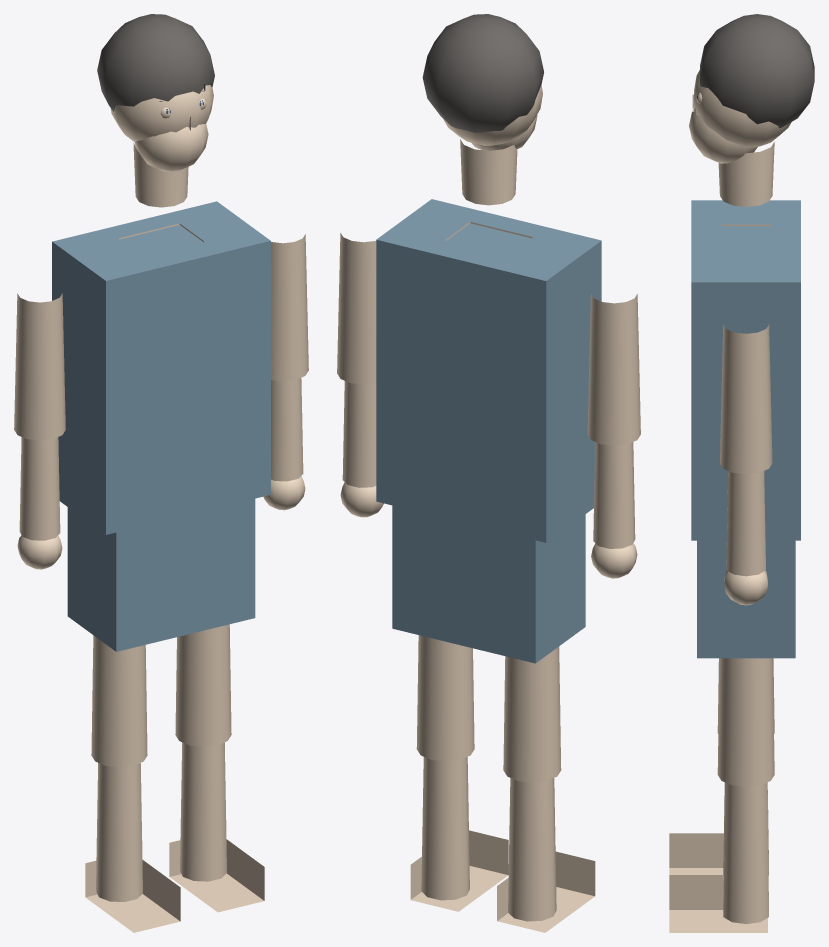
File: body.glb
3 renders of one model, left to right at view 1: azimuth 30°, elevation 25°; view 2: azimuth 150°, elevation 25°; view 3: azimuth 270°, elevation 25°, orthographic. The views are drawn at different scales.
Parts seen in each view (by area): view 1: Cloth, Skin, Hair; view 2: Cloth, Skin, Hair; view 3: Skin, Cloth, Hair.
Part boxes in pixels (x1,y1,x2,y2): Cloth: [52, 201, 270, 651]; Skin: [14, 85, 308, 932]; Hair: [97, 14, 214, 111]; Cloth: [376, 199, 601, 663]; Skin: [337, 85, 640, 932]; Hair: [422, 14, 543, 132]; Skin: [669, 70, 791, 932]; Cloth: [691, 200, 800, 658]; Hair: [700, 14, 814, 127].
Size of the model in its own units: 0.6167 by 1.77 by 0.2646.
